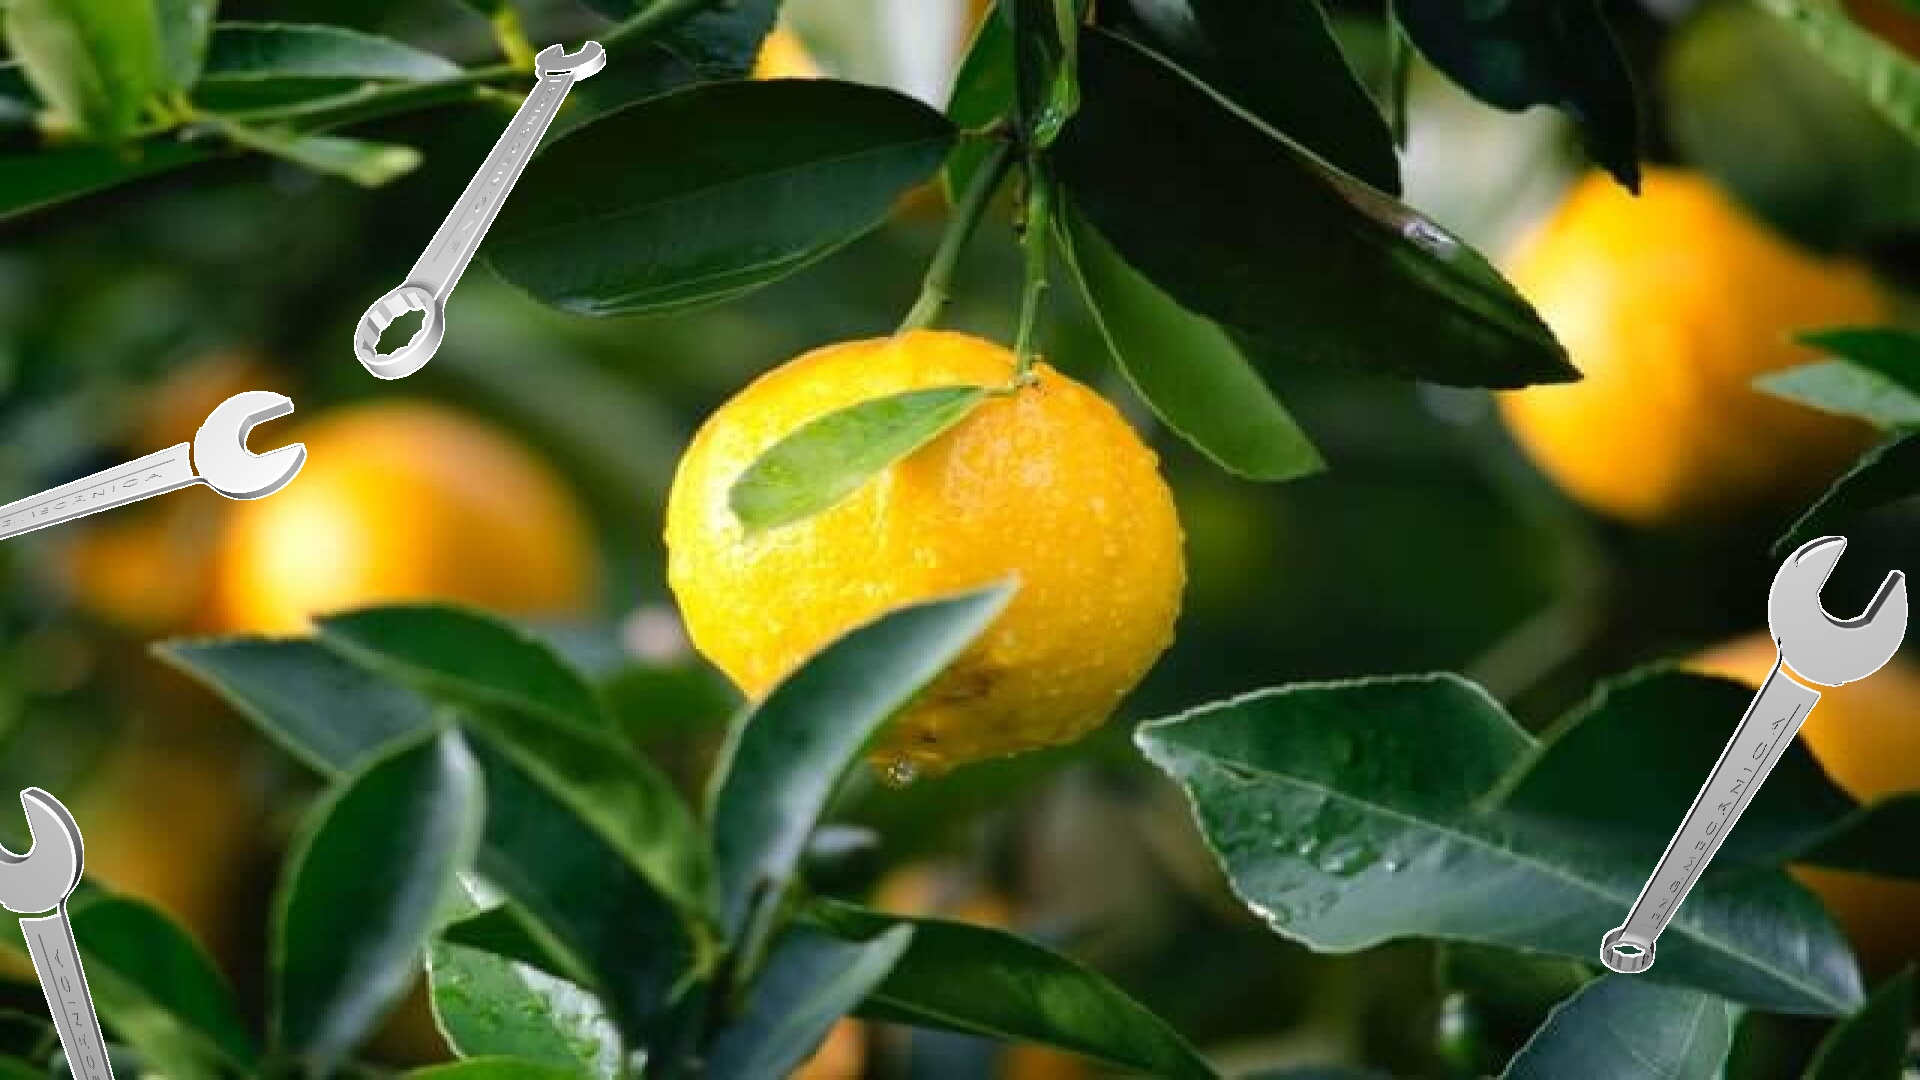Mixed Key: (1600, 535, 1907, 972), (353, 41, 605, 378), (0, 392, 306, 539), (0, 787, 113, 1079)
